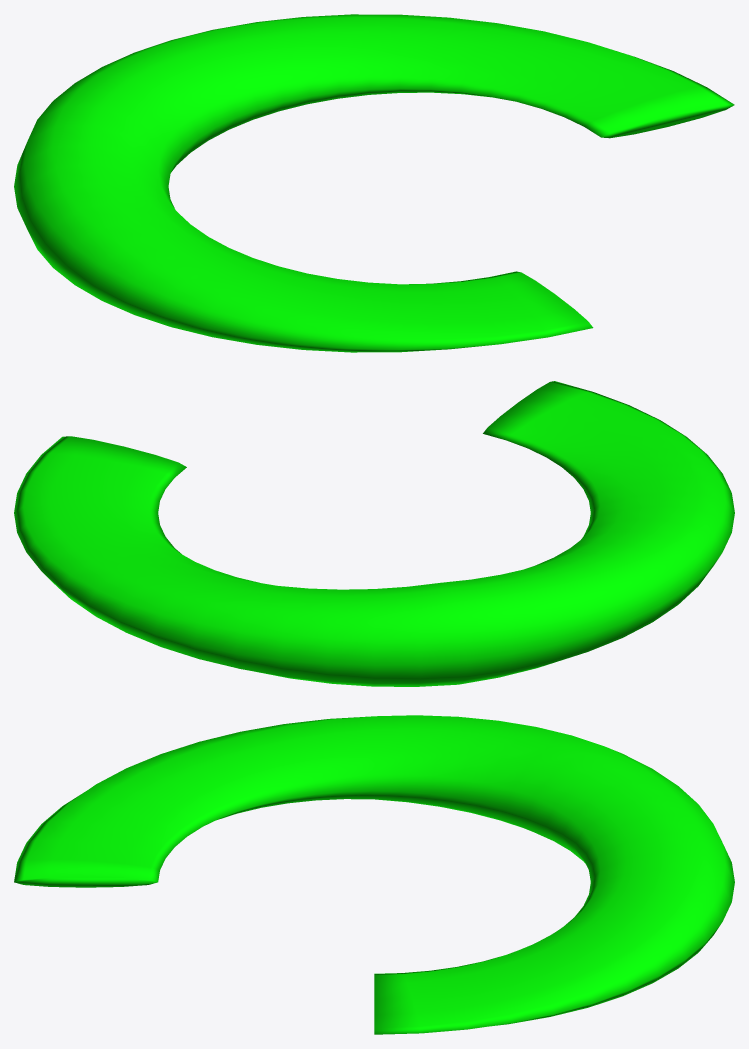
Rendered from gale.glb.
3 views of the same model, one above another, from view 1: azimuth 30°, elevation 25°; view 2: azimuth 150°, elevation 25°; view 3: azimuth 270°, elevation 25° (orthographic). The views are drawn at different scales.
Visible parts, largest first — view 1: Torus; view 2: Torus; view 3: Torus.
Boxes of the visible parts, x1=… form: Torus: x1=14, y1=14, x2=734, y2=352; Torus: x1=14, y1=381, x2=734, y2=686; Torus: x1=14, y1=715, x2=734, y2=1034.
Bounding box in the file's own units: 2.5 × 0.3212 × 2.5.
